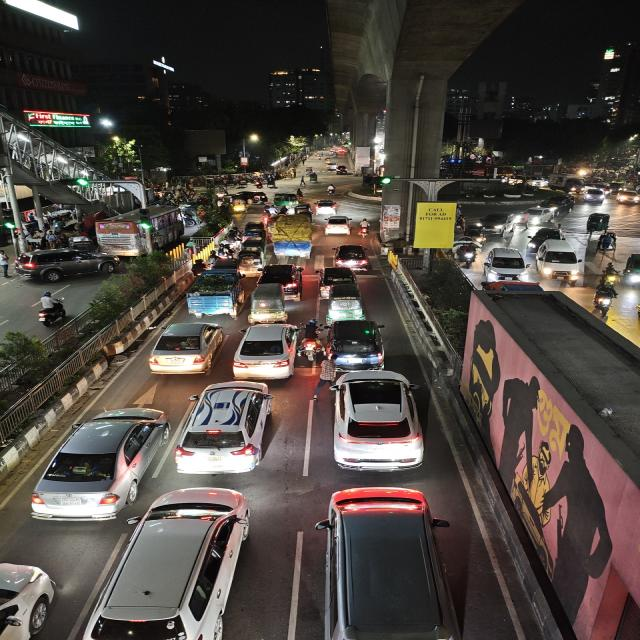bus: (93, 205, 185, 259)
car: (81, 488, 254, 640), (308, 486, 457, 640), (25, 403, 170, 525), (327, 368, 430, 476), (172, 379, 280, 477), (0, 558, 63, 640), (146, 320, 225, 380), (229, 319, 303, 382), (14, 248, 117, 283), (326, 318, 389, 368), (534, 240, 586, 280), (255, 264, 306, 300), (481, 246, 530, 282), (330, 242, 373, 272), (476, 211, 520, 237), (315, 266, 359, 290), (528, 226, 572, 248), (583, 211, 612, 235), (520, 206, 554, 226), (323, 214, 353, 236), (545, 194, 576, 215), (582, 186, 608, 204), (312, 199, 339, 215), (616, 189, 640, 206), (333, 164, 348, 176)
cng: (249, 282, 287, 323), (326, 284, 366, 321), (236, 247, 266, 273), (622, 251, 640, 291), (272, 192, 300, 210), (242, 221, 266, 241)
motorcycle: (32, 291, 69, 328), (300, 318, 324, 366), (590, 280, 619, 318), (599, 260, 620, 288), (214, 240, 237, 262), (356, 216, 373, 238), (324, 182, 338, 196)
pedestrian: (0, 248, 11, 278), (298, 174, 308, 186)
pickup_van: (183, 268, 245, 318), (268, 214, 316, 258)
rickshaw: (595, 232, 619, 256)
truck: (548, 173, 584, 195)
